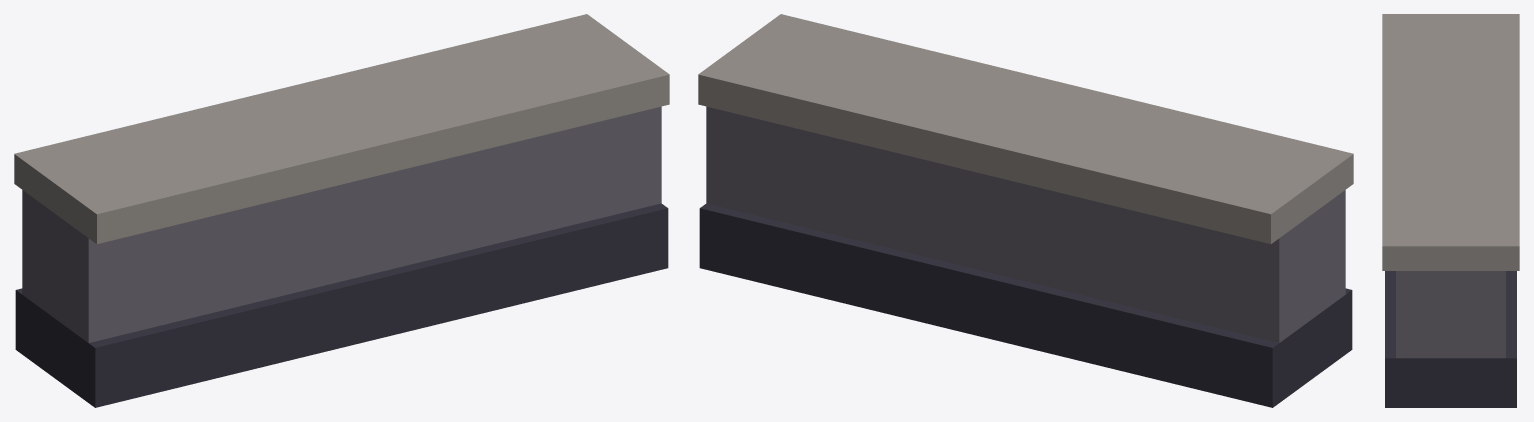
Rendered from wall_low.fbx.
3 renders of one model, left to right at view 1: azimuth 30°, elevation 25°; view 2: azimuth 150°, elevation 25°; view 3: azimuth 270°, elevation 25°, orthographic. The views are drawn at different scales.
Parts seen in each view (by area): view 1: wall_low; view 2: wall_low; view 3: wall_low.
Part boxes in pixels (left/top/right/bottom): wall_low: left=14, top=14, right=669, bottom=407; wall_low: left=698, top=14, right=1353, bottom=407; wall_low: left=1382, top=14, right=1519, bottom=407.
Bounding box in the file's own units: 4 × 1.3 × 1.
